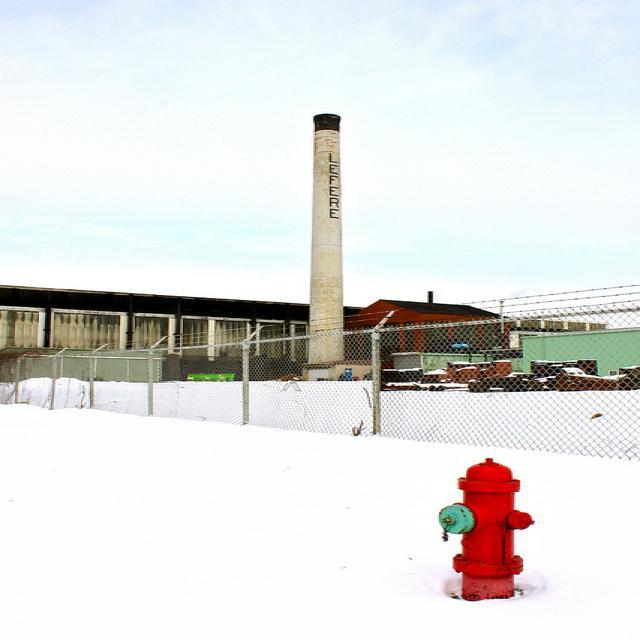fire_hydrant: (438, 458, 536, 600)
